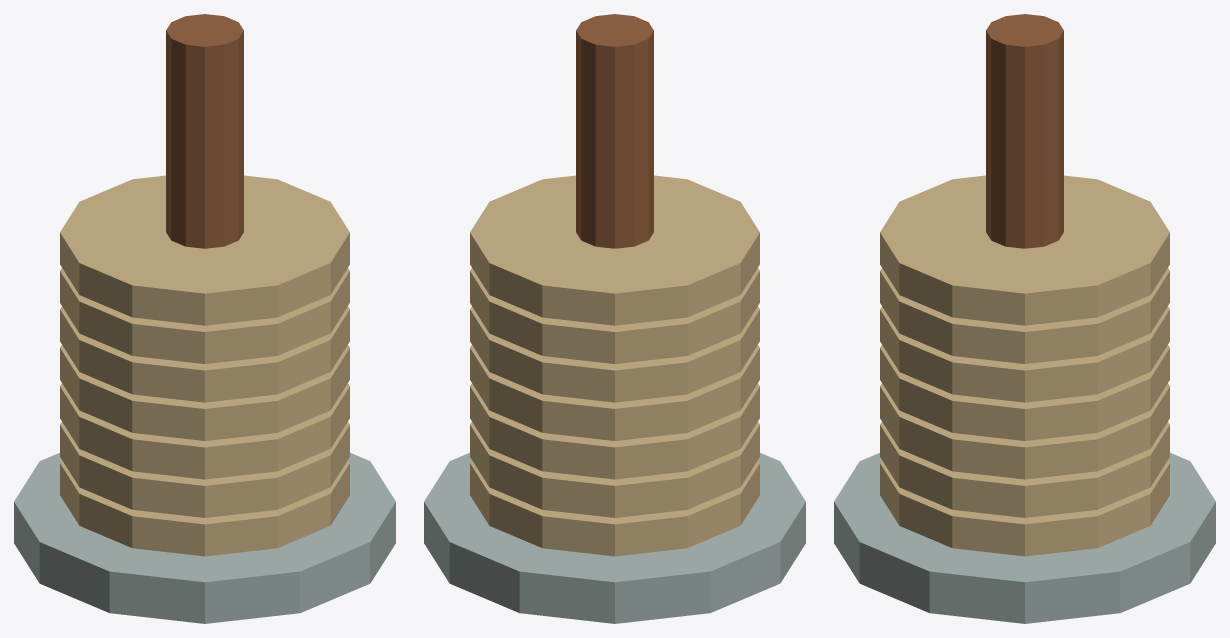
Rendered from 030_jetty_rope_spool.glb.
3 views of the same model, side by side, from view 1: azimuth 30°, elevation 25°; view 2: azimuth 150°, elevation 25°; view 3: azimuth 270°, elevation 25° (orthographic).
Parts seen in each view (by area): view 1: Jetty rope spool; view 2: Jetty rope spool; view 3: Jetty rope spool.
Boxes of the visible parts, bbox=[...] form: Jetty rope spool: bbox=[14, 14, 395, 623]; Jetty rope spool: bbox=[424, 14, 805, 623]; Jetty rope spool: bbox=[834, 14, 1215, 623].
Bounding box in the file's own units: 1.08 × 1.6 × 1.08.
